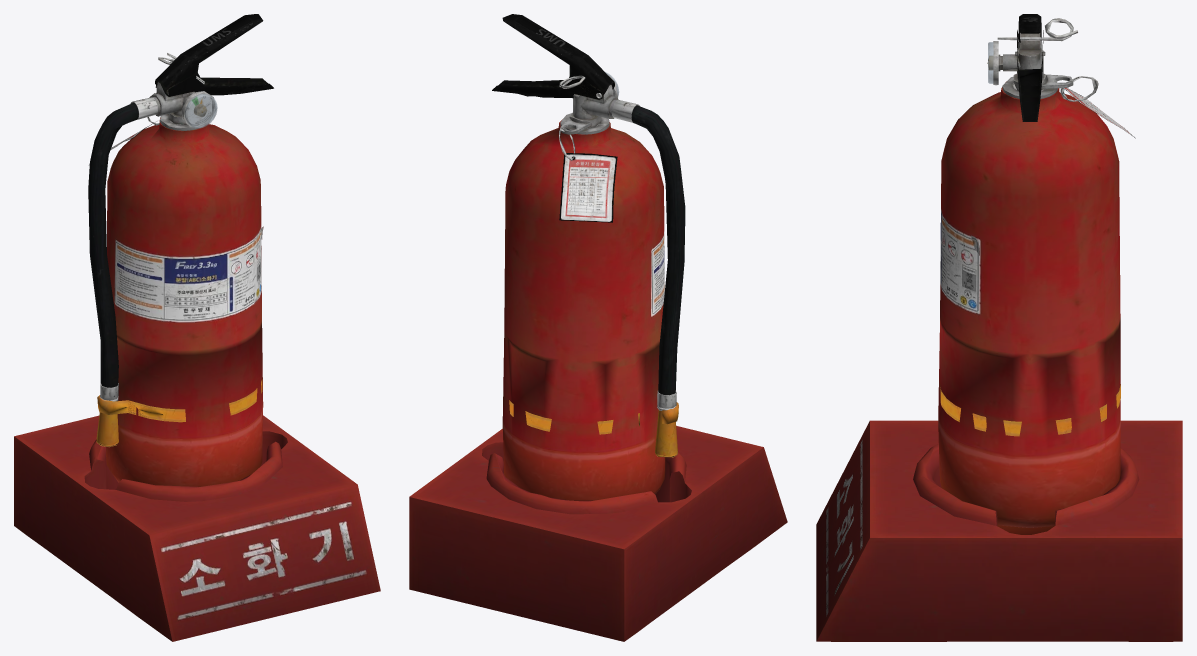
File: extinguisher_hq.glb
3 renders of one model, left to right at view 1: azimuth 30°, elevation 25°; view 2: azimuth 150°, elevation 25°; view 3: azimuth 270°, elevation 25°, orthographic. The views are drawn at different scales.
Visible parts, largest first — view 1: korean_fire_extinguisher_01; view 2: korean_fire_extinguisher_01; view 3: korean_fire_extinguisher_01.
Part boxes in pixels (box(x1,y1,x2,y2)): korean_fire_extinguisher_01: box(14, 14, 380, 641); korean_fire_extinguisher_01: box(409, 14, 787, 641); korean_fire_extinguisher_01: box(816, 14, 1182, 641).
Bounding box in the file's own units: 0.28 × 0.6581 × 0.3675.
3 materials, 3 textured.
